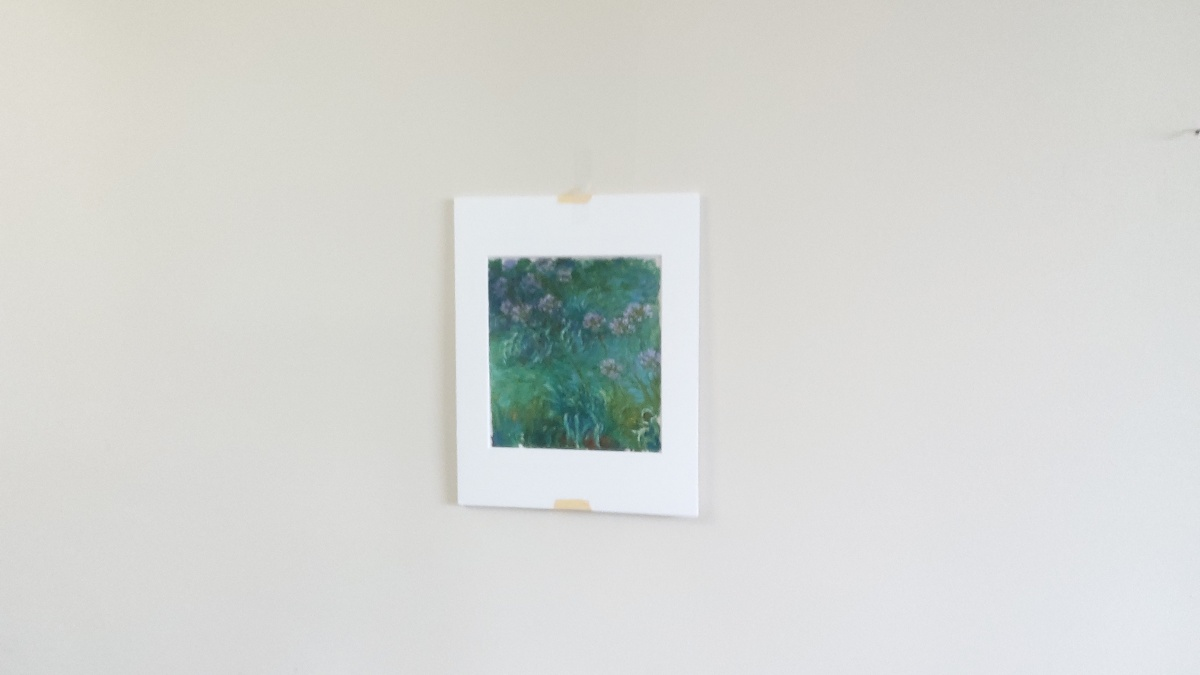painting: (482, 247, 670, 464)
